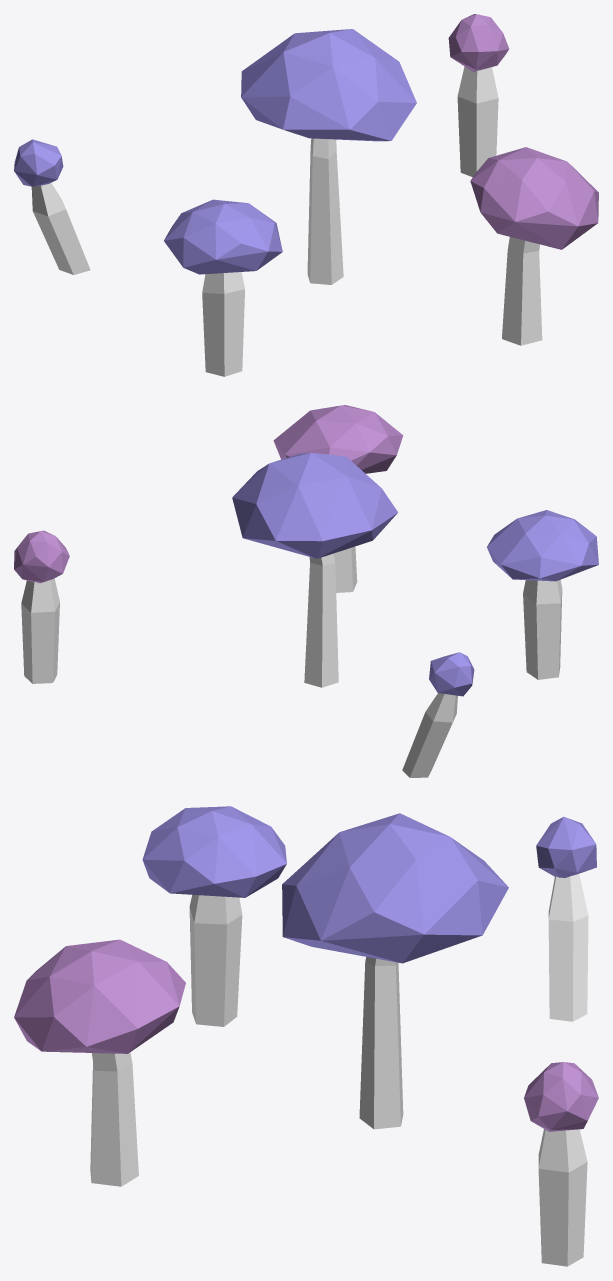
File: mushroom4.fbx
3 views of the same model, one above another, from view 1: azimuth 30°, elevation 25°; view 2: azimuth 150°, elevation 25°; view 3: azimuth 270°, elevation 25° (orthographic). The views are drawn at different scales.
Parts seen in each view (by area): view 1: Mushroom_k_06; view 2: Mushroom_k_06; view 3: Mushroom_k_06.
Boxes of the visible parts, x1,y1,x2,y2 form: Mushroom_k_06: (14,14,598,376); Mushroom_k_06: (14,405,598,777); Mushroom_k_06: (14,806,598,1266).
Size of the model in its own units: 81.19 by 97.23 by 46.33.
1 material, 1 textured.
